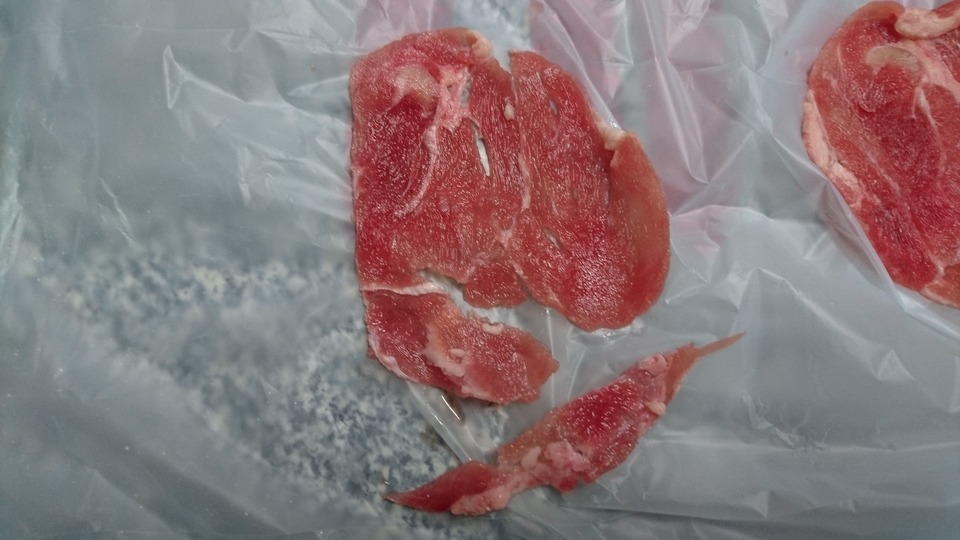restructured meat: (342, 37, 729, 500), (808, 9, 956, 298)
